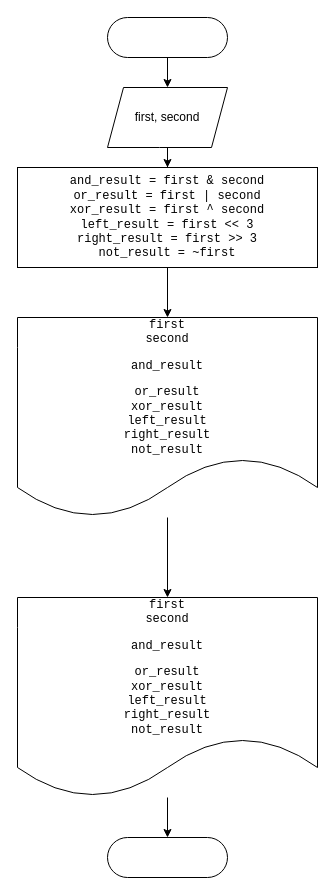
This 335x895 diagram has some shape labels left out. The shapes that lost their labels are listed below. From the top down, each one's box as (x1, y1, x2, y2) in pixels, then its label:
(106, 16, 228, 58): Начало
(106, 836, 228, 878): Конец
